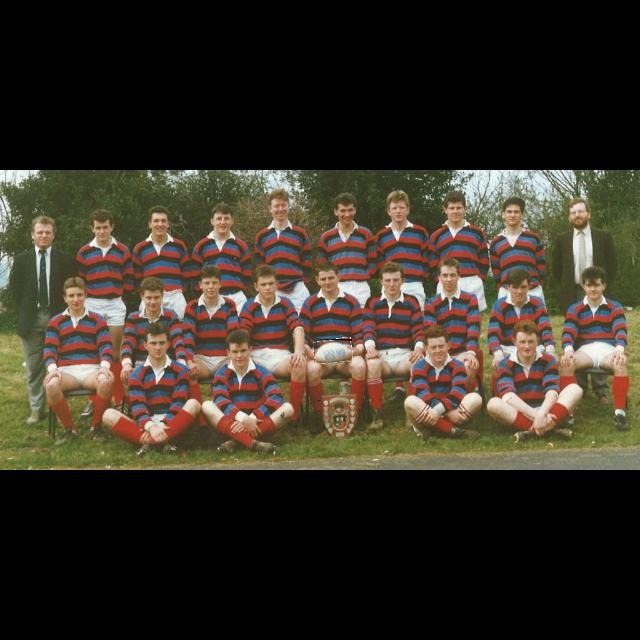Football: (314, 339, 352, 363)
